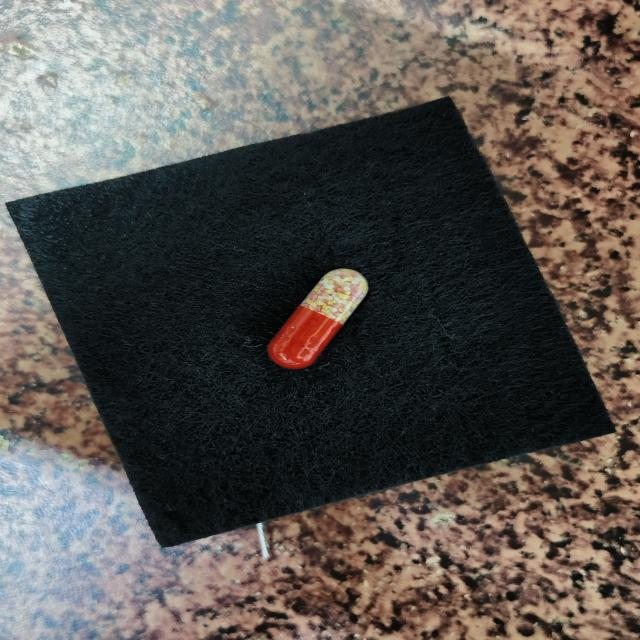Intact Capsule: (267, 268, 368, 369)
